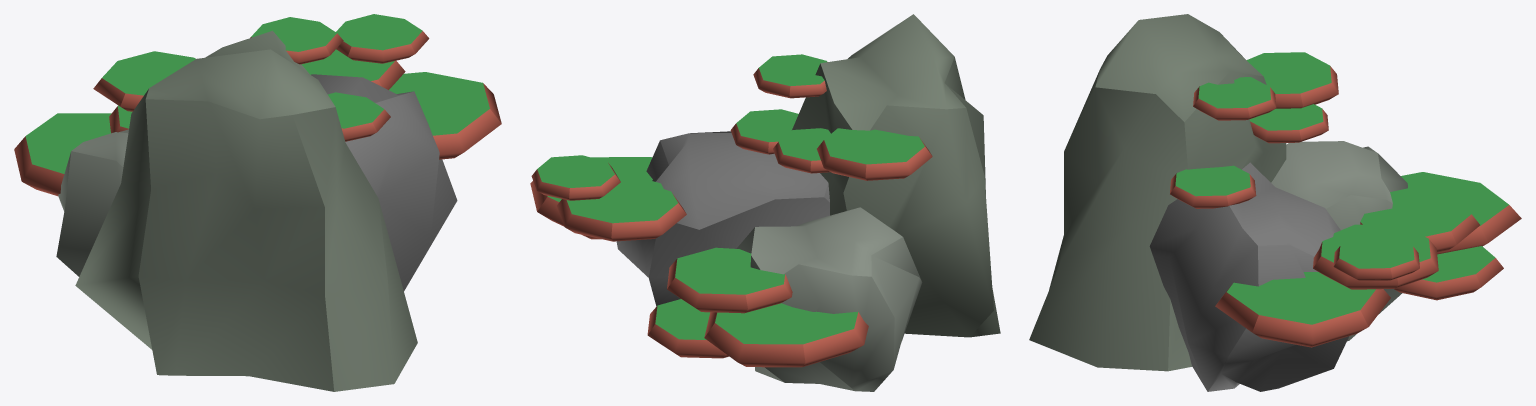
Rendered from Stein mit komischen DIngern drauf.fbx.
3 renders of one model, left to right at view 1: azimuth 30°, elevation 25°; view 2: azimuth 150°, elevation 25°; view 3: azimuth 270°, elevation 25°, orthographic. The views are drawn at different scales.
Parts seen in each view (by area): view 1: pasted__pasted__pasted__pasted__pCube1 (×4), pasted__pasted__pasted__pasted__pasted__pasted__pCube1 (×3), pasted__pasted__pasted__pCube1 (×2), pasted__pasted__pasted__pasted__pasted__pCube1, pasted__pasted__pasted__pasted__pasted__pasted__pasted__pCub; view 2: pasted__pasted__pasted__pasted__pCube1 (×4), pasted__pasted__pasted__pCube1 (×3), pasted__pasted__pasted__pasted__pasted__pasted__pCube1 (×3), pasted__pasted__pasted__pasted__pasted__pCube1 (×2), pasted__pasted__pasted__pasted__pasted__pasted__pasted__pCub; view 3: pasted__pasted__pasted__pasted__pCube1 (×4), pasted__pasted__pasted__pCube1 (×3), pasted__pasted__pasted__pasted__pasted__pCube1 (×2), pasted__pasted__pasted__pasted__pasted__pasted__pCube1 (×3), pasted__pasted__pasted__pasted__pasted__pasted__pasted__pCub.
Boxes of the visible parts, bbox=[...] form: pasted__pasted__pasted__pasted__pCube1 (×4): bbox=[14, 30, 457, 391]; pasted__pasted__pasted__pasted__pasted__pasted__pCube1 (×3): bbox=[93, 14, 429, 141]; pasted__pasted__pasted__pCube1 (×2): bbox=[56, 105, 132, 276]; pasted__pasted__pasted__pasted__pasted__pCube1: bbox=[389, 72, 501, 159]; pasted__pasted__pasted__pasted__pasted__pasted__pasted__pCub: bbox=[250, 17, 343, 64]; pasted__pasted__pasted__pasted__pCube1 (×4): bbox=[557, 14, 1000, 367]; pasted__pasted__pasted__pCube1 (×3): bbox=[647, 207, 922, 391]; pasted__pasted__pasted__pasted__pasted__pasted__pCube1 (×3): bbox=[531, 109, 932, 200]; pasted__pasted__pasted__pasted__pasted__pCube1 (×2): bbox=[530, 128, 830, 239]; pasted__pasted__pasted__pasted__pasted__pasted__pasted__pCub: bbox=[753, 54, 827, 98]; pasted__pasted__pasted__pasted__pCube1 (×4): bbox=[1029, 14, 1521, 391]; pasted__pasted__pasted__pCube1 (×3): bbox=[1271, 141, 1503, 341]; pasted__pasted__pasted__pasted__pasted__pCube1 (×2): bbox=[1215, 104, 1390, 347]; pasted__pasted__pasted__pasted__pasted__pasted__pCube1 (×3): bbox=[1170, 52, 1419, 281]; pasted__pasted__pasted__pasted__pasted__pasted__pasted__pCub: bbox=[1193, 77, 1276, 120].
Size of the model in its own units: 25.1 by 16.84 by 24.93.
